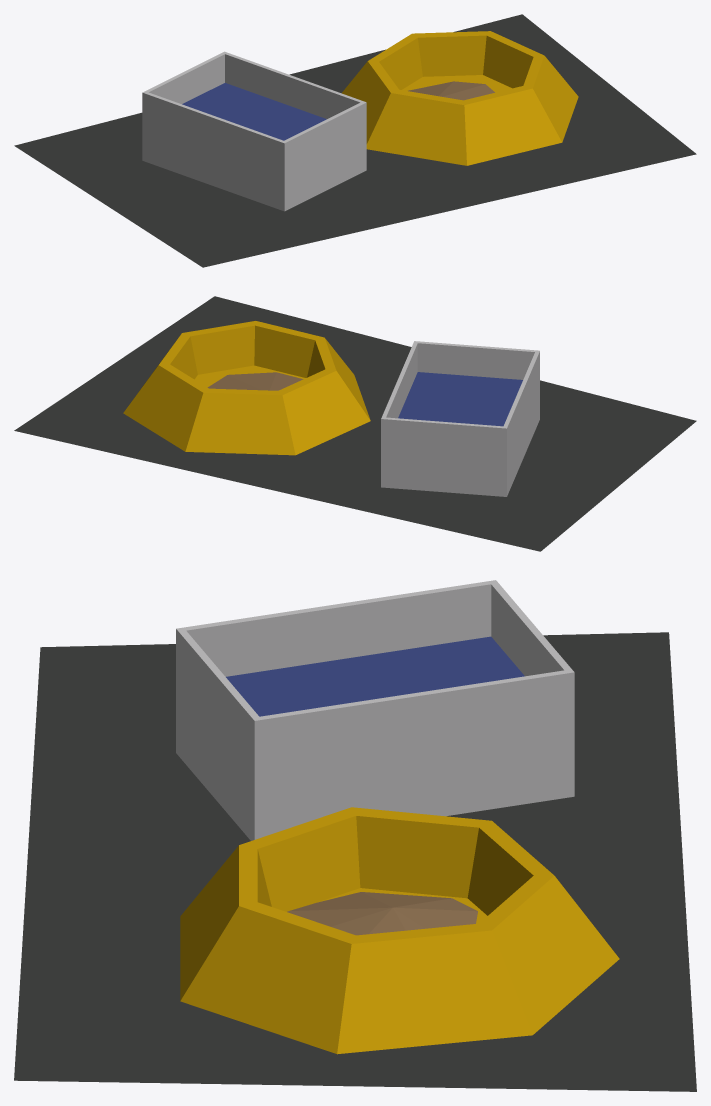
Rendered from DogFood 1.glb.
The picture shows the model from 3 angles, top to bottom: view 1: azimuth 30°, elevation 25°; view 2: azimuth 150°, elevation 25°; view 3: azimuth 270°, elevation 25°; orthographic projection. The views are drawn at different scales.
Visible parts, largest first — view 1: dogFood; view 2: dogFood; view 3: dogFood.
Part boxes in pixels (x1=…): dogFood: x1=14, y1=14, x2=696, y2=267; dogFood: x1=14, y1=296, x2=696, y2=551; dogFood: x1=14, y1=580, x2=696, y2=1091.
Bounding box in the file's own units: 1.02 × 0.1296 × 0.6407.
1 material, 1 textured.
